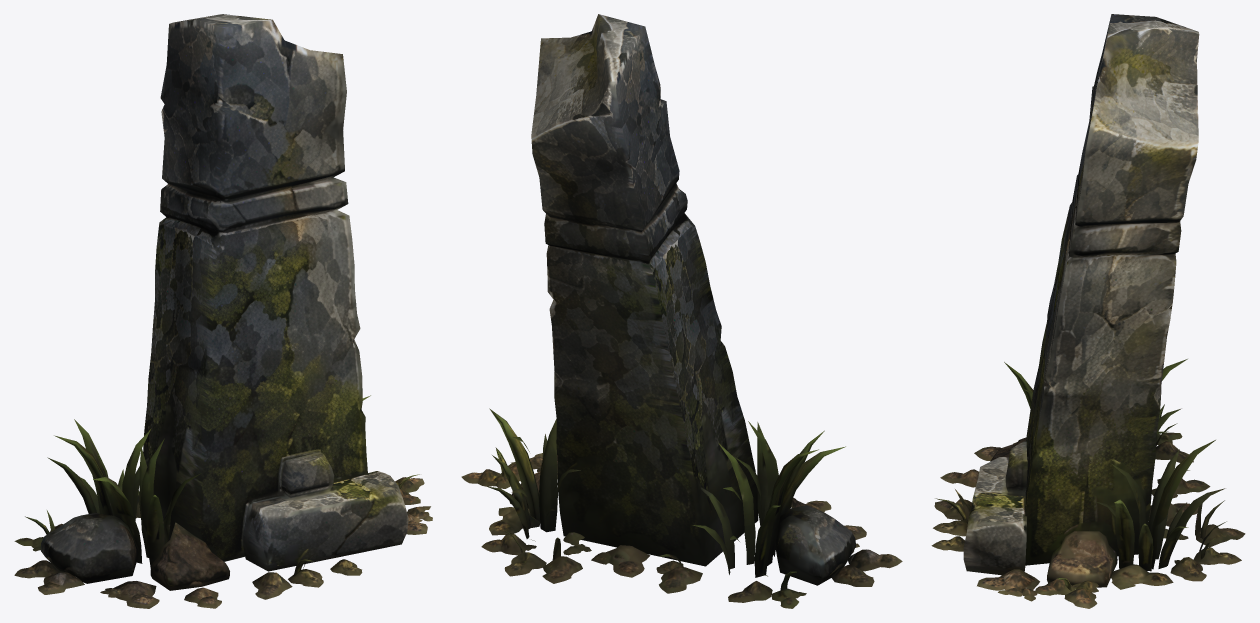
Rendered from act1_kit_v1_marker_stone.glb.
3 renders of one model, left to right at view 1: azimuth 30°, elevation 25°; view 2: azimuth 150°, elevation 25°; view 3: azimuth 270°, elevation 25°, orthographic. The views are drawn at different scales.
Visible parts, largest first — view 1: act1_kit_v1_marker_stone; view 2: act1_kit_v1_marker_stone; view 3: act1_kit_v1_marker_stone.
Part boxes in pixels (left/top/right/bottom): act1_kit_v1_marker_stone: left=14, top=14, right=432, bottom=608; act1_kit_v1_marker_stone: left=461, top=14, right=902, bottom=608; act1_kit_v1_marker_stone: left=931, top=14, right=1245, bottom=608.
Bounding box in the file's own units: 0.8421 × 1 × 0.5551.
Materials: 1 (1 with a texture image).
